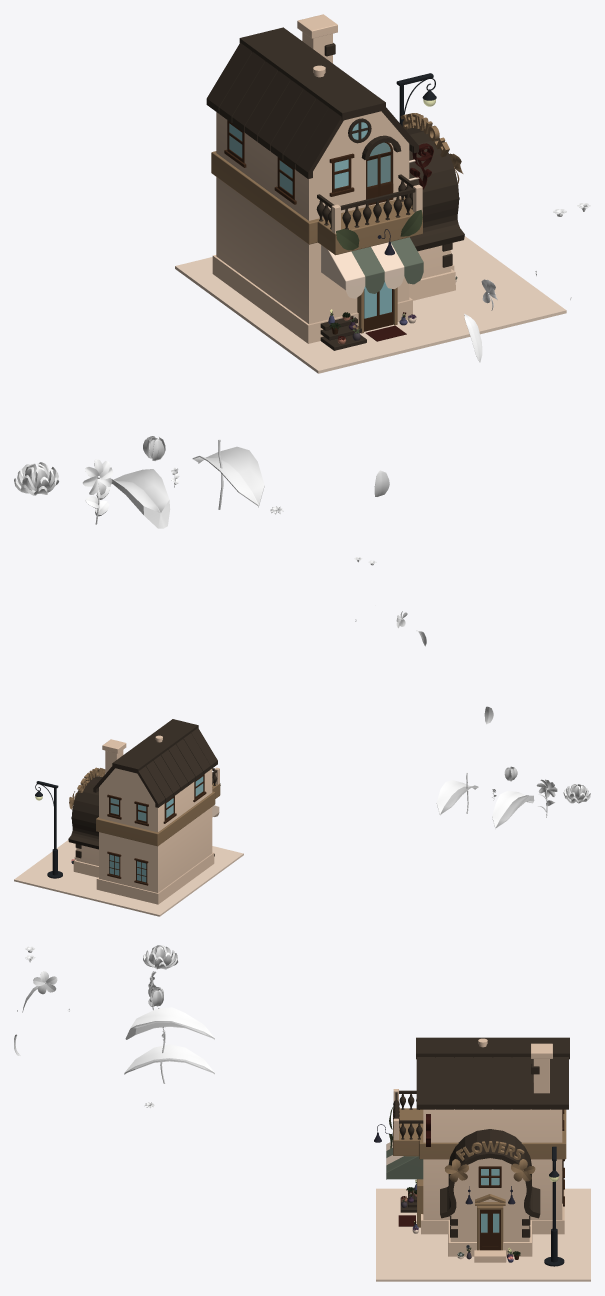
File: flower_house.glb
The picture shows the model from 3 angles, top to bottom: view 1: azimuth 30°, elevation 25°; view 2: azimuth 150°, elevation 25°; view 3: azimuth 270°, elevation 25°; orthographic projection. The views are drawn at different scales.
Parts seen in each view (by area): view 1: polySurface1, pCube1, pCube12, pCube5, pCube4, pPipe5, pPlane12, pPlane1, pCube6, pCylinder3, pCube63, pCube65 (+8 smaller); view 2: polySurface1, pCube1, pCube5, pCube12, pPipe5, pPlane12, pPlane1, pCube6, pCube70, pCube15; view 3: pCube1, polySurface1, pCube6, pCube12, pPipe5, pCube5, pPlane12, pPlane1, pCube73, pCube74, pCube75, pCube76 (+8 smaller).
Part boxes in pixels (box(x1,y1,x2,y2)): polySurface1: box(212, 111, 412, 343); pCube1: box(175, 236, 566, 373); pCube12: box(239, 27, 385, 120); pCube5: box(211, 151, 422, 255); pCube4: box(321, 237, 423, 298); pPipe5: box(405, 128, 464, 251); pPlane12: box(111, 469, 170, 528); pPlane1: box(192, 446, 264, 507); pCube6: box(409, 245, 455, 300); pCylinder3: box(366, 142, 393, 205); pCube63: box(296, 108, 343, 178); pCube65: box(270, 89, 316, 160); polySurface1: box(96, 768, 214, 904); pCube1: box(14, 840, 243, 916); pCube5: box(96, 783, 220, 846); pCube12: box(112, 719, 198, 773); pPipe5: box(68, 776, 102, 849); pPlane12: box(492, 791, 534, 829); pPlane1: box(436, 780, 478, 815); pCube6: box(73, 845, 98, 877); pCube70: box(138, 766, 165, 807); pCube15: box(102, 739, 126, 773); pCube1: box(376, 1188, 590, 1281); polySurface1: box(421, 1109, 564, 1234); pCube6: box(448, 1158, 532, 1256); pCube12: box(416, 1037, 569, 1059); pPipe5: box(440, 1129, 540, 1218); pCube5: box(393, 1108, 566, 1159); pPlane12: box(125, 1007, 214, 1039); pPlane1: box(124, 1044, 214, 1074); pCube73: box(512, 1057, 530, 1109); pCube74: box(493, 1057, 511, 1109); pCube75: box(474, 1057, 492, 1109); pCube76: box(455, 1057, 473, 1109).
Bounding box in the file's own units: 2.32 × 1.05 × 2.23.
